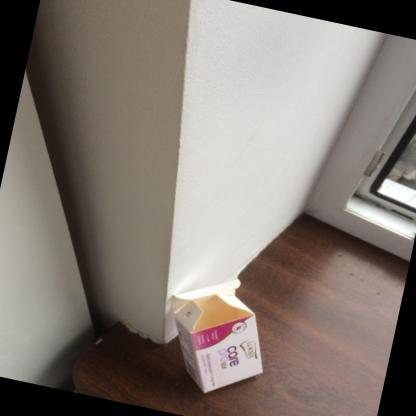Paper: (171, 278, 262, 393)
